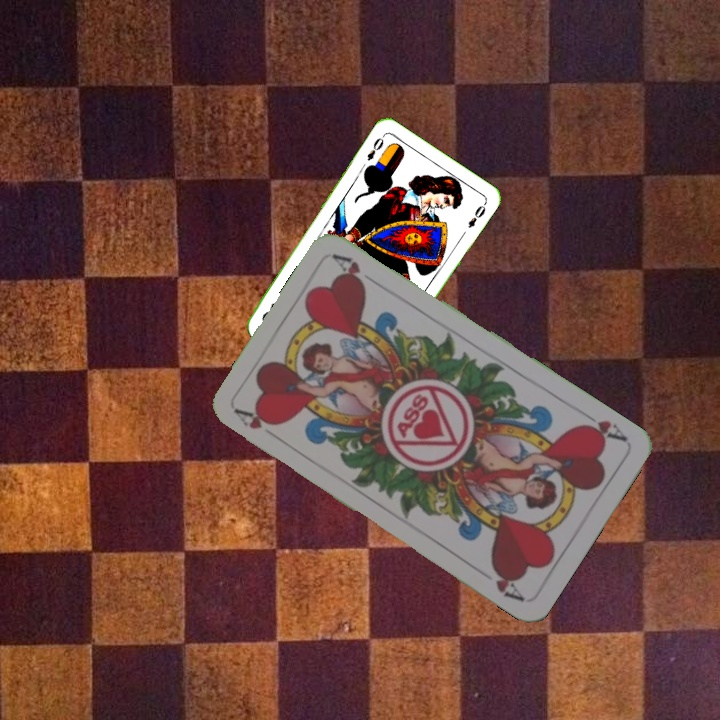EO: (363, 131, 387, 164)
HA: (574, 407, 630, 445), (231, 404, 279, 432)
